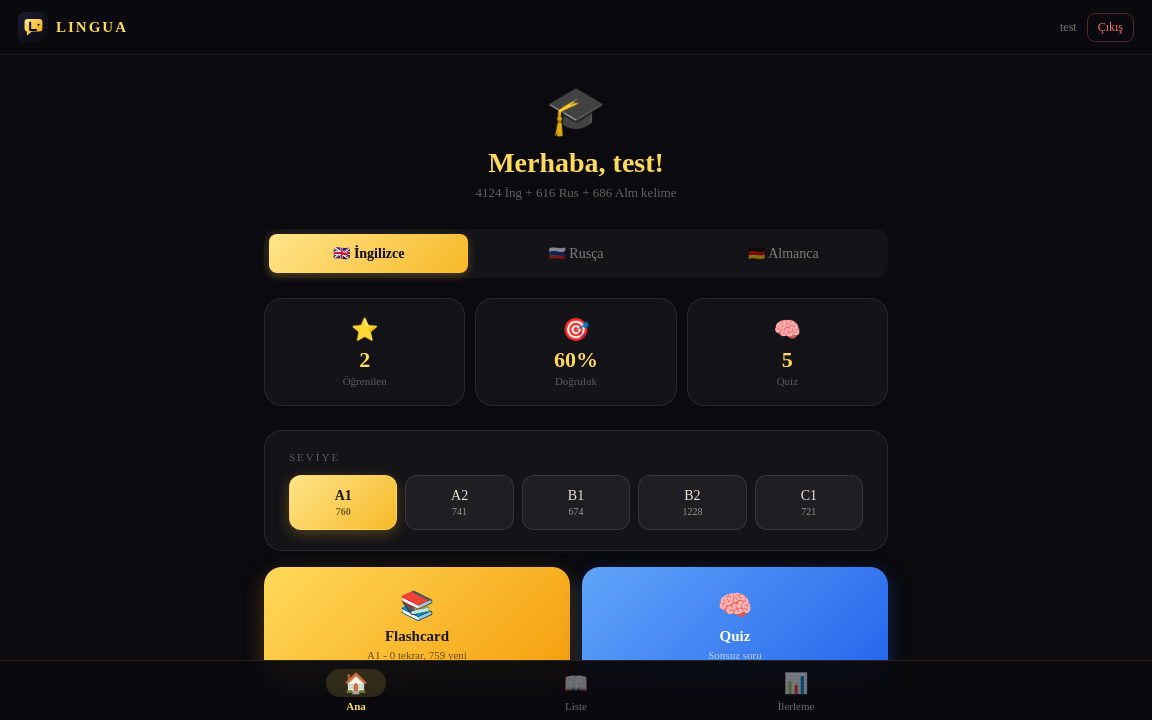
Test case: Rusça seçilince Rusça listesi yüklenir
This screenshot has width=1152, height=720.
Click the button "🇷🇺 Rusça" at (576,254), box [476, 234, 676, 273]
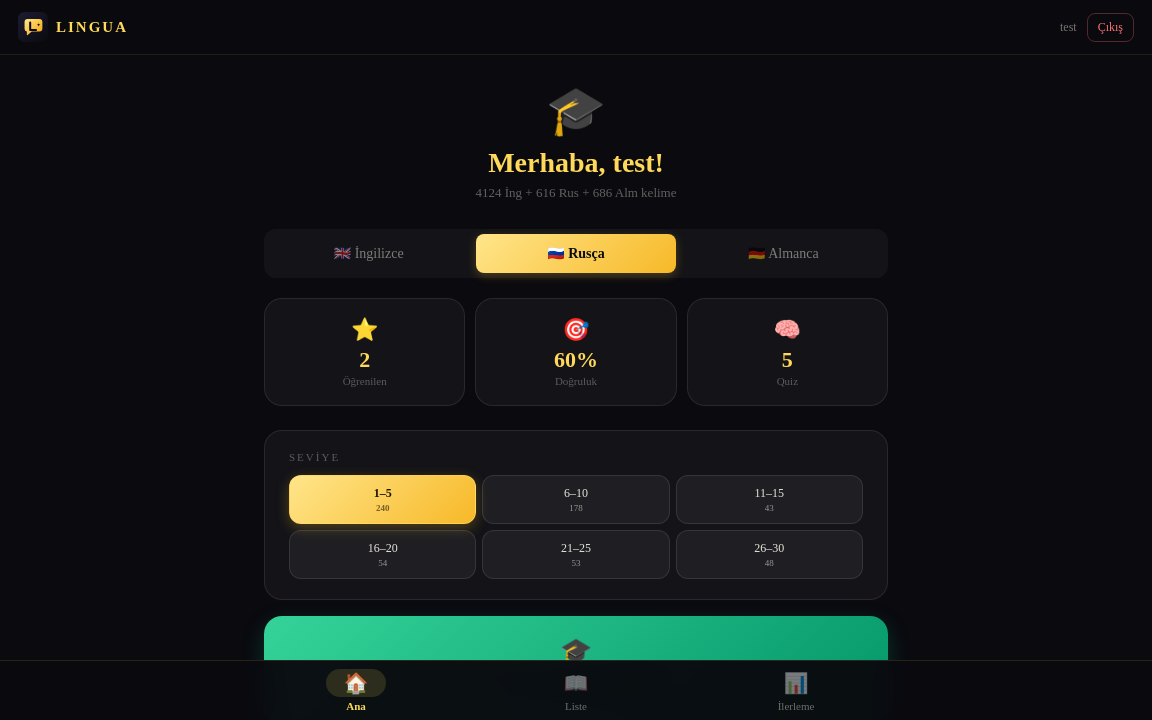
Check: the text "240" is shown, box [376, 503, 389, 513]
